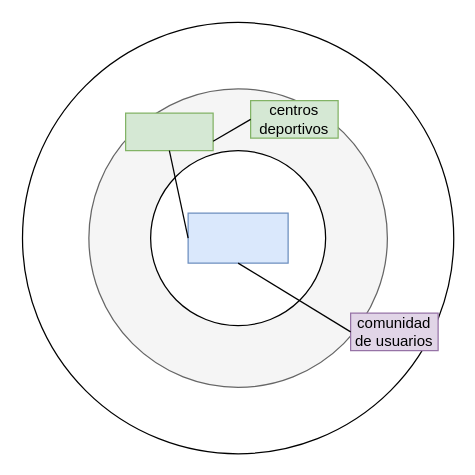
Image size: 475x475. Some labels were removed from this diagram. The box of each missing label's shape, as (x1, y1, x2, y2) in pixels:
equipos deportivos: (124, 112, 213, 151)
Usuario: (187, 212, 288, 263)
